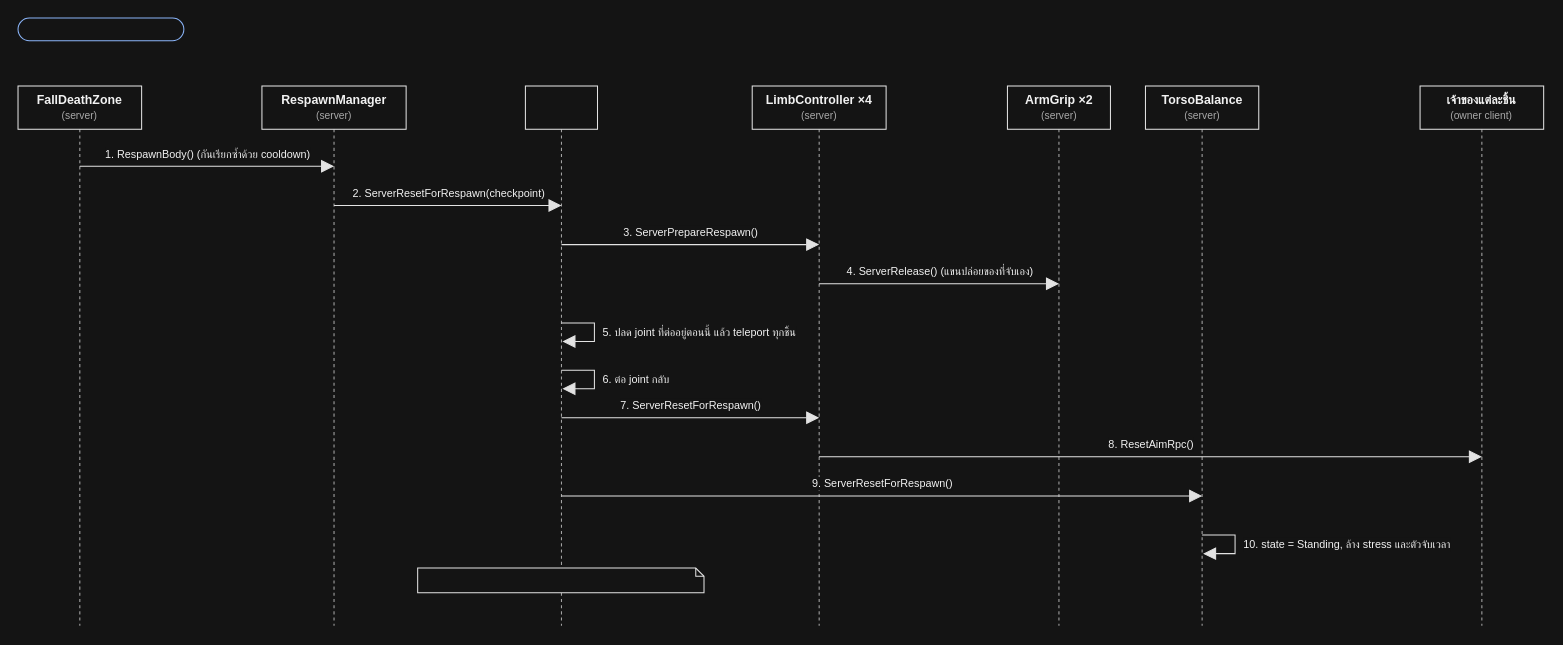
This 1563x645 diagram has some shape labels left out. Each missing label, with the box of its shape:
Robot (server): (524, 85, 598, 129)
ข้อเสนอ · ยังไม่มีในโค้ด: (17, 17, 184, 41)
แขนขาที่หลุดยังหลุดอยู่ และเลือดคงเดิม (ตามโค้ดตอนนี้): (417, 567, 704, 593)
